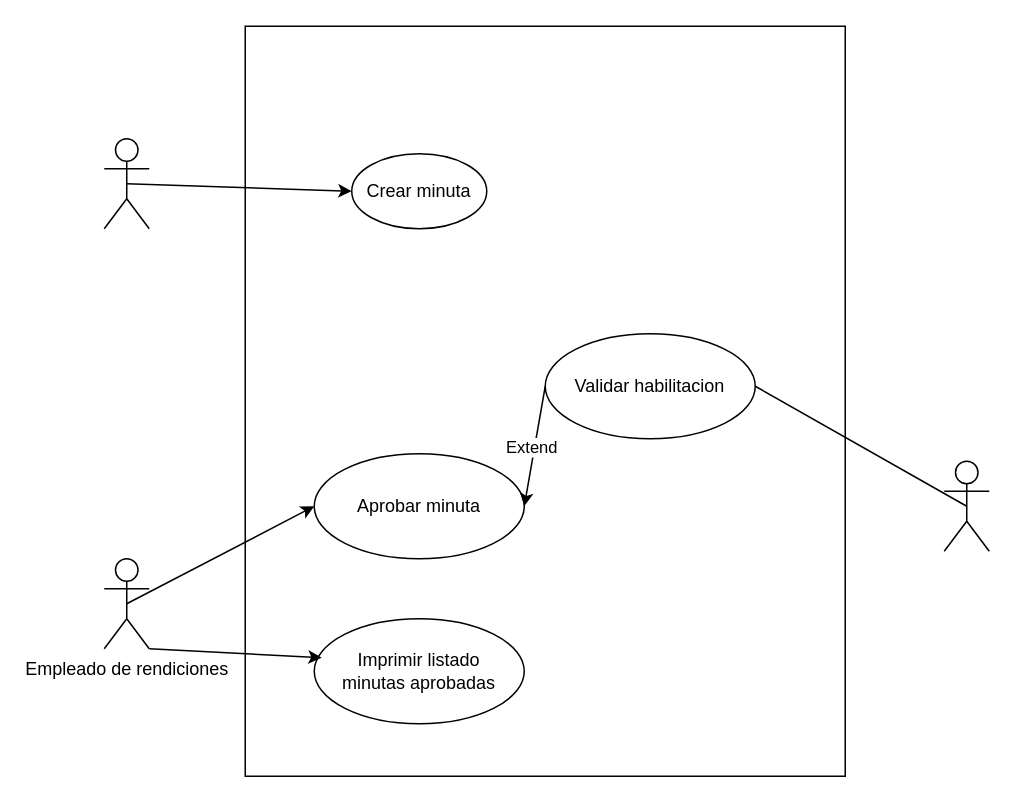
The diagram is 1016 pixels wide and 803 high, and some of its shapes have lost their labels. The shapes that lost their labels are listed below. From the top down, each one's centre as x and y in pixels, then its label:
At [126,183]: "Empleado de mesa".
At [966,505]: "AFIP".
